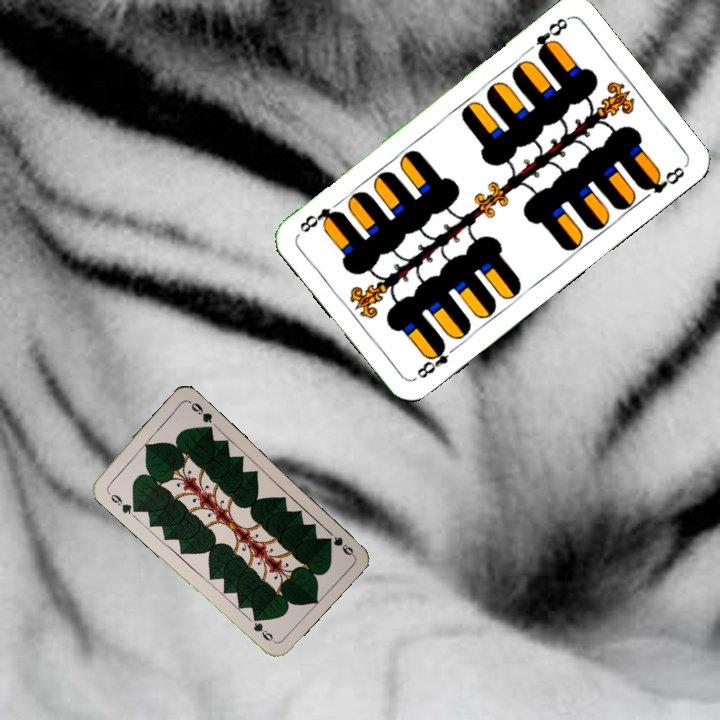E8: (410, 339, 460, 383), (531, 13, 571, 60)
G9: (103, 487, 139, 517), (329, 532, 356, 558)
